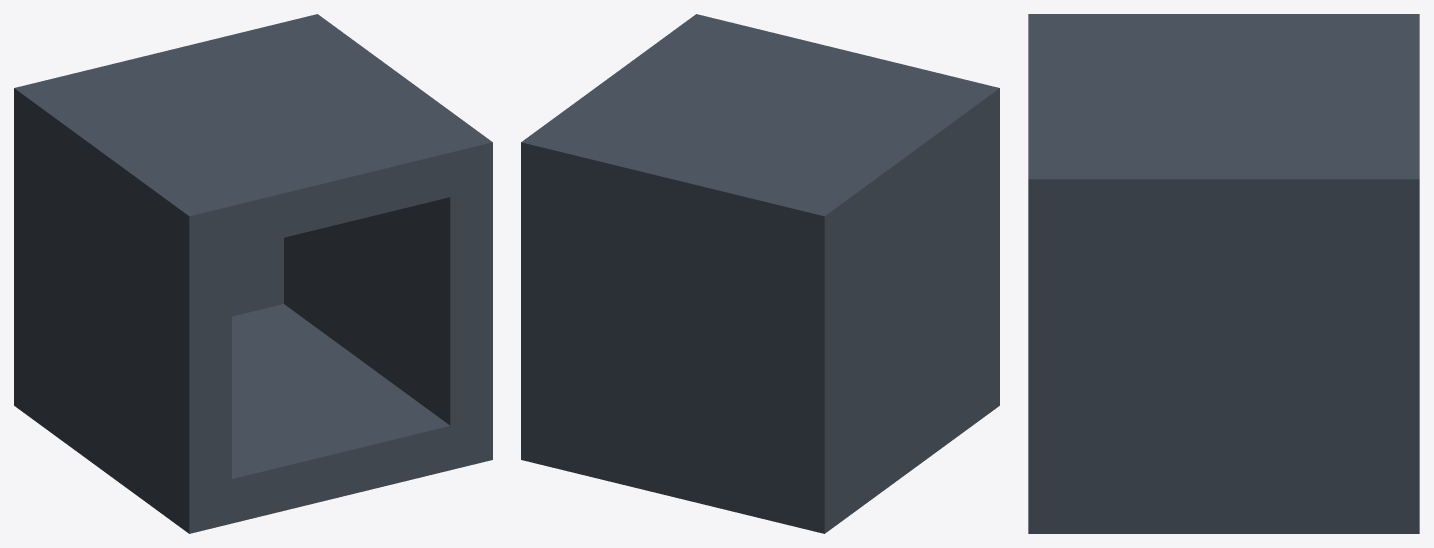
The model's file is wallBox.fbx.
3 views of the same model, side by side, from view 1: azimuth 30°, elevation 25°; view 2: azimuth 150°, elevation 25°; view 3: azimuth 270°, elevation 25° (orthographic). The views are drawn at different scales.
Parts seen in each view (by area): view 1: Cube; view 2: Cube; view 3: Cube.
Part boxes in pixels (x1=…): Cube: x1=14, y1=14, x2=492, y2=533; Cube: x1=521, y1=14, x2=999, y2=533; Cube: x1=1028, y1=14, x2=1419, y2=533.
Bounding box in the file's own units: 200 × 200 × 200.
